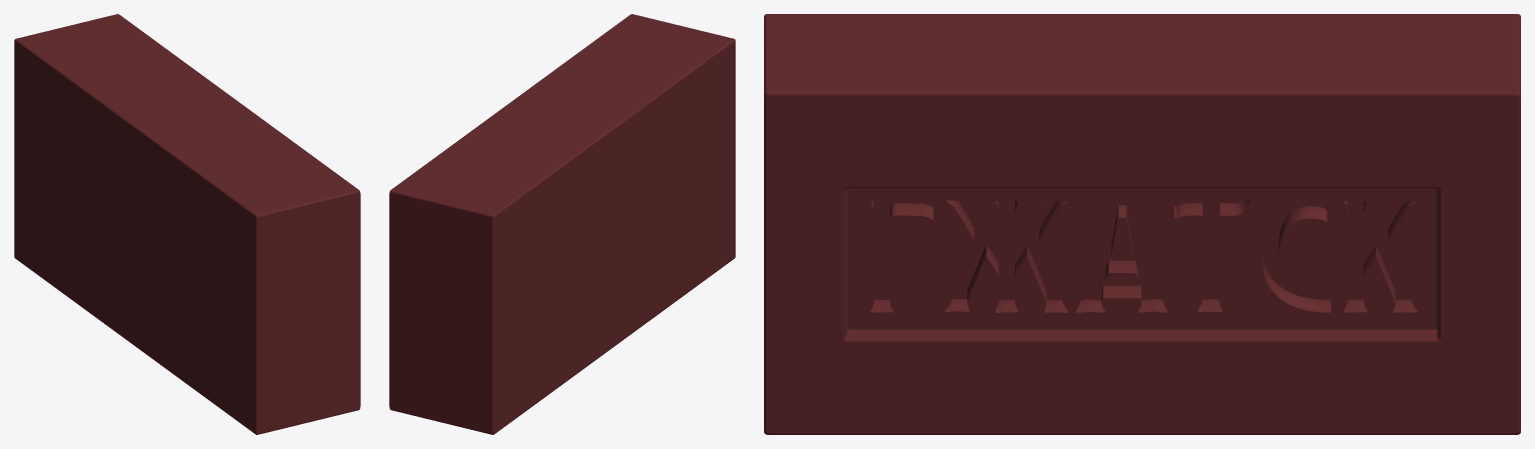
Rendered from brick.gltf.
The picture shows the model from 3 angles, left to right: view 1: azimuth 30°, elevation 25°; view 2: azimuth 150°, elevation 25°; view 3: azimuth 270°, elevation 25°; orthographic projection. The views are drawn at different scales.
Visible parts, largest first — view 1: Cube; view 2: Cube; view 3: Cube.
Boxes of the visible parts, box(x1,y1,x2,y2) form: Cube: box(14, 14, 360, 434); Cube: box(389, 14, 735, 434); Cube: box(764, 14, 1520, 434).
Bounding box in the file's own units: 1 × 2 × 4.
